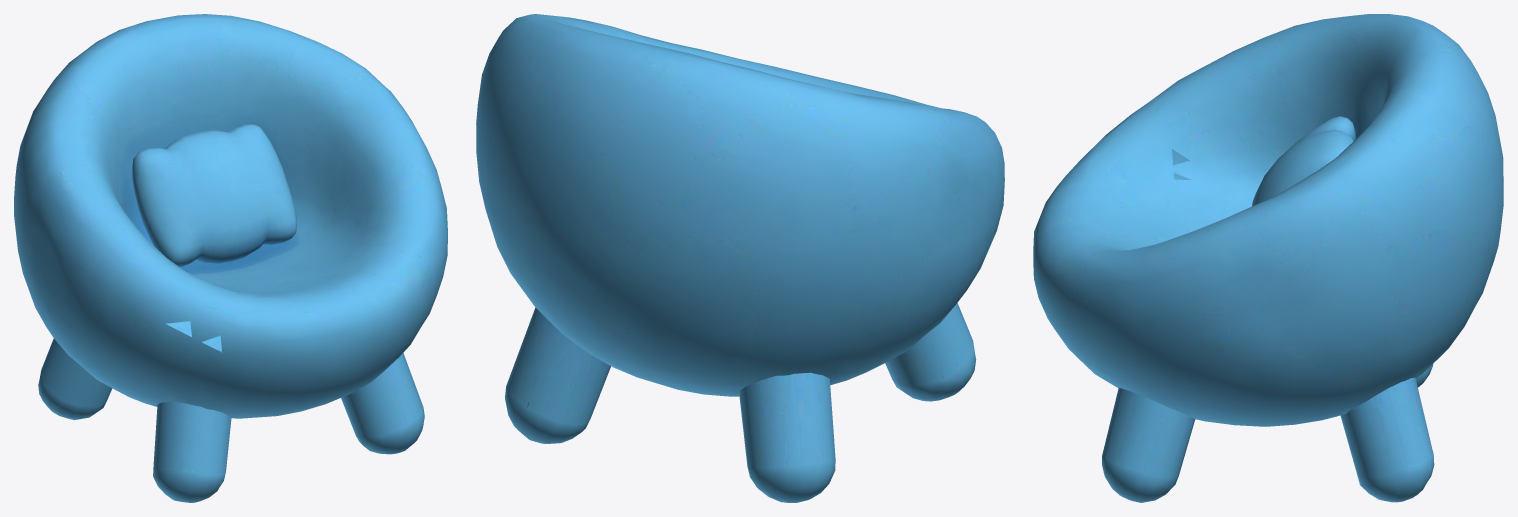
File: armchair.glb
3 views of the same model, side by side, from view 1: azimuth 30°, elevation 25°; view 2: azimuth 150°, elevation 25°; view 3: azimuth 270°, elevation 25° (orthographic). The views are drawn at different scales.
Visible parts, largest first — view 1: geometry_0; view 2: geometry_0; view 3: geometry_0.
Part boxes in pixels (x1=…): geometry_0: x1=14, y1=14, x2=447, y2=502; geometry_0: x1=476, y1=14, x2=1004, y2=502; geometry_0: x1=1033, y1=14, x2=1503, y2=502.
Size of the model in its own units: 1 by 0.9244 by 1.
Materials: 1 (1 with a texture image).
